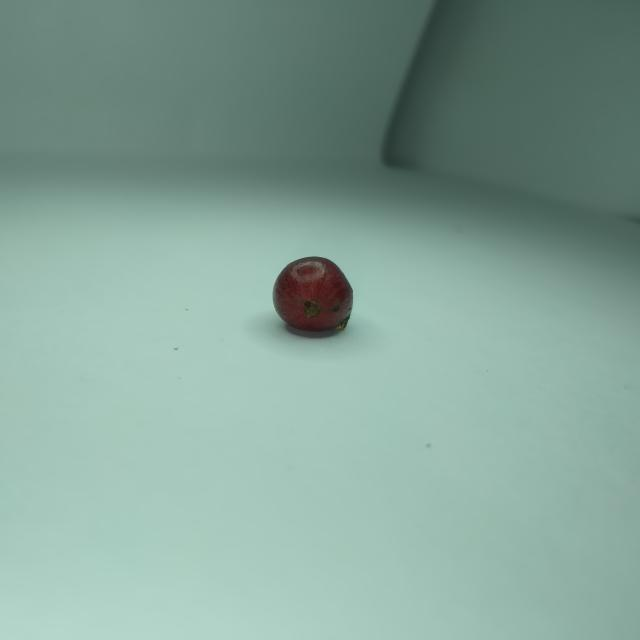Infectado: (273, 257, 352, 334)
